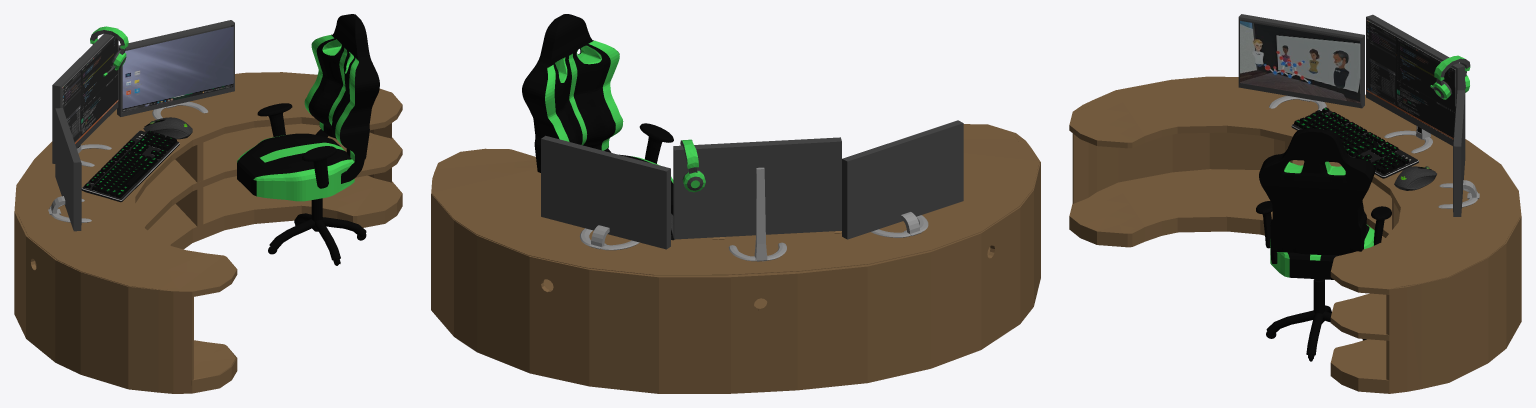
Rendered from table.glb.
3 views of the same model, side by side, from view 1: azimuth 30°, elevation 25°; view 2: azimuth 150°, elevation 25°; view 3: azimuth 270°, elevation 25° (orthographic). The views are drawn at different scales.
Visible parts, largest first — view 1: Cube_001_21 - Default_0, Cube_010, Cube_011, Cube_002, keys, Cube_000, Cube_012, Cube_019, keyboard, R_Mouse_00_16 - Default_0, Cylinder_002; view 2: Cube_001_21 - Default_0, Cube_019, Cube_012, Cube_000, Cube_010, Cylinder_002; view 3: Cube_001_21 - Default_0, Cube_010, Cube_013, Cube_002, keys, Cube_000, Cube_019, Cube_012, R_Mouse_00_16 - Default_0, Cylinder_002, keyboard.
Part boxes in pixels (x1,y1,x2,y2): Cube_001_21 - Default_0: [14, 72, 402, 393]; Cube_010: [237, 14, 379, 265]; Cube_011: [122, 26, 233, 111]; Cube_002: [62, 37, 118, 143]; keys: [84, 130, 177, 198]; Cube_000: [48, 108, 91, 231]; Cube_012: [117, 20, 234, 119]; Cube_019: [52, 28, 118, 166]; keyboard: [81, 130, 179, 202]; R_Mouse_00_16 - Default_0: [143, 117, 192, 139]; Cylinder_002: [90, 26, 128, 76]; Cube_001_21 - Default_0: [431, 124, 1040, 393]; Cube_019: [673, 137, 841, 261]; Cube_012: [541, 135, 670, 250]; Cube_000: [842, 120, 963, 239]; Cube_010: [522, 14, 673, 215]; Cylinder_002: [680, 139, 705, 192]; Cube_001_21 - Default_0: [1069, 76, 1521, 393]; Cube_010: [1256, 128, 1391, 361]; Cube_013: [1240, 21, 1360, 103]; Cube_002: [1366, 20, 1455, 139]; keys: [1294, 107, 1409, 174]; Cube_000: [1238, 14, 1364, 110]; Cube_019: [1366, 14, 1464, 153]; Cube_012: [1438, 90, 1479, 216]; R_Mouse_00_16 - Default_0: [1394, 166, 1436, 190]; Cylinder_002: [1430, 55, 1470, 99]; keyboard: [1291, 110, 1418, 178].
Size of the model in its own units: 114 by 57.09 by 102.
15 materials, 7 textured.
